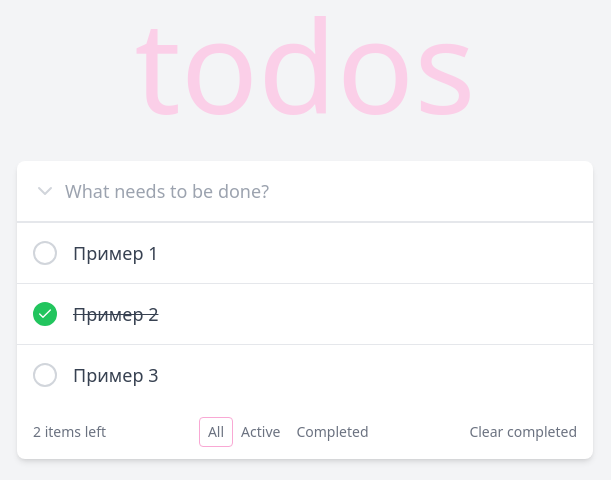
Test: toggles a todo
Click the checkbox labelled "Пример 1" at (96, 253), box [33,241,158,265]
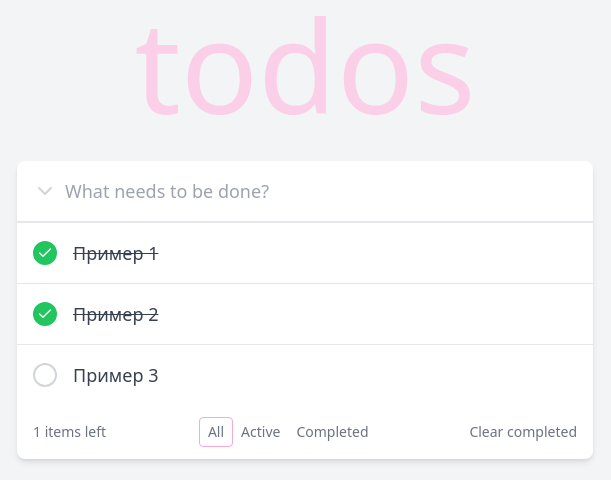
Check: the checkbox labelled "Пример 1" is checked, box [33,241,158,265]
Check: the icon next to "Пример 1" is shown, box [37,245,53,261]
